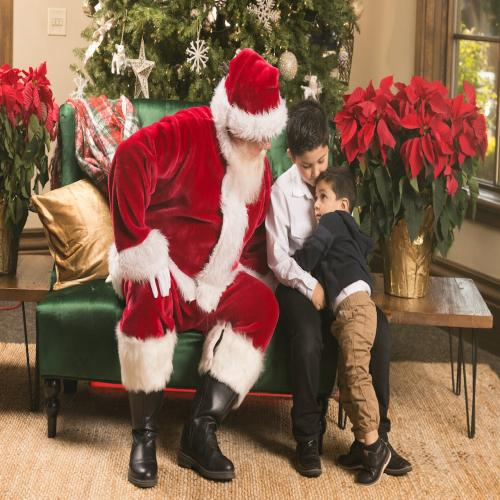Santa: (108, 50, 288, 490)
